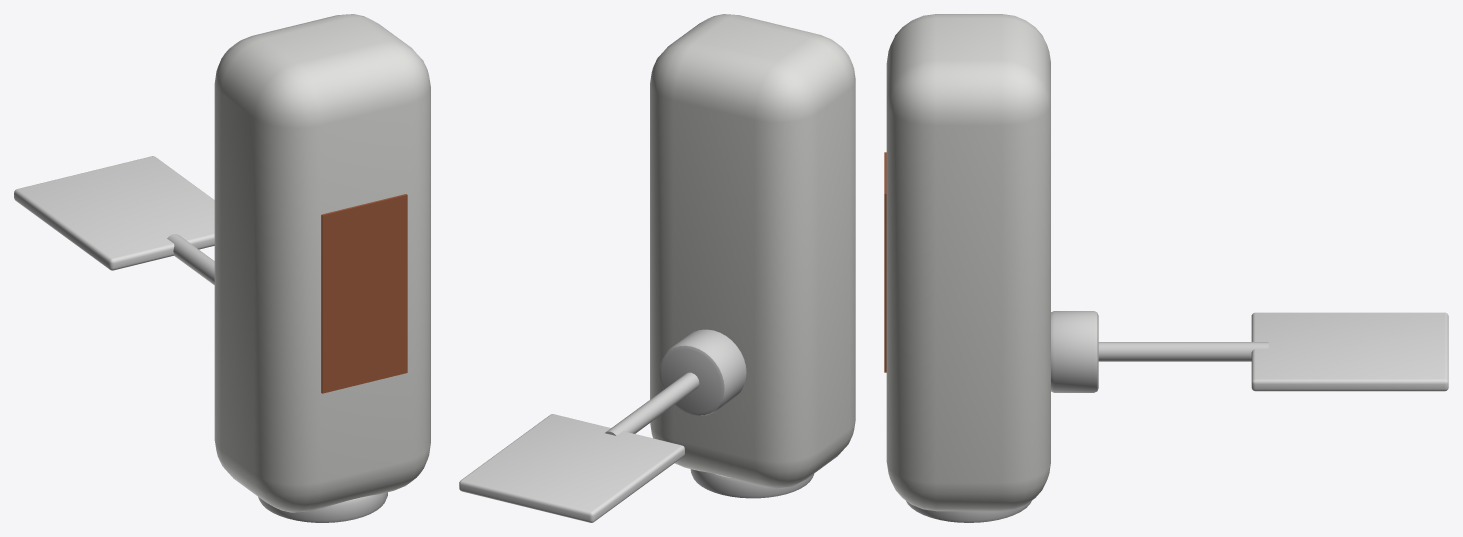
The model's file is kitchen_machine_head.glb.
3 views of the same model, side by side, from view 1: azimuth 30°, elevation 25°; view 2: azimuth 150°, elevation 25°; view 3: azimuth 270°, elevation 25° (orthographic). The views are drawn at different scales.
Visible parts, largest first — view 1: kitchen_machine_head_x; view 2: kitchen_machine_head_x; view 3: kitchen_machine_head_x.
Part boxes in pixels (x1,y1,x2,y2): kitchen_machine_head_x: (14, 14, 430, 522); kitchen_machine_head_x: (459, 14, 855, 522); kitchen_machine_head_x: (884, 14, 1448, 522).
Size of the model in its own units: 0.12 by 0.3075 by 0.3435.
